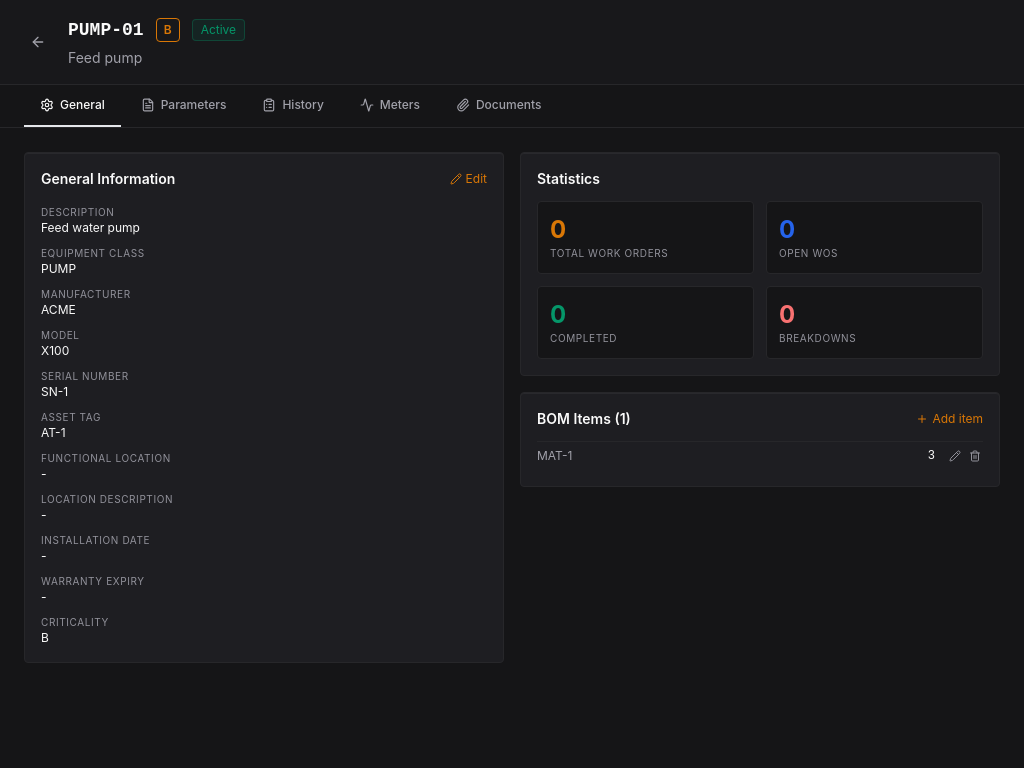
Scenario: EquipmentDetailPage BOM editing (SOW 3.1.2) › edits a BOM item quantity
Click the button named "edit bom mat-1" at (955, 456), box [947,448,963,464]
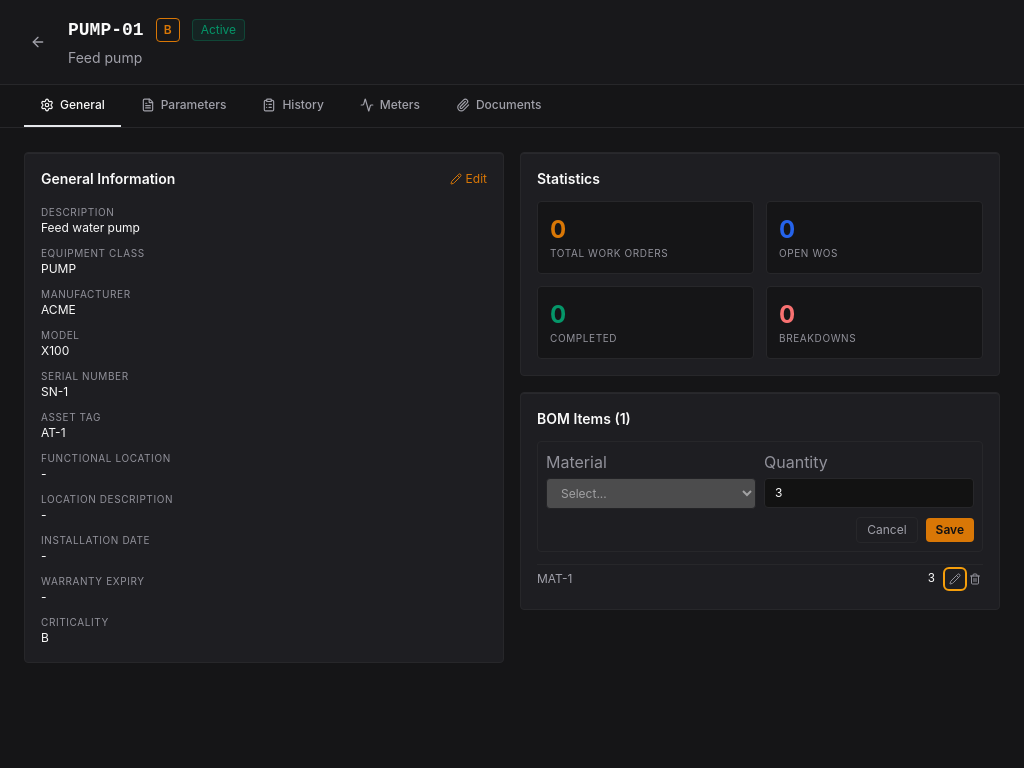
Result: the number field labelled "Quantity" holds "3"
Replace the text in the number field labelled "Quantity" with "7" at (869, 493), box [764,478,974,508]
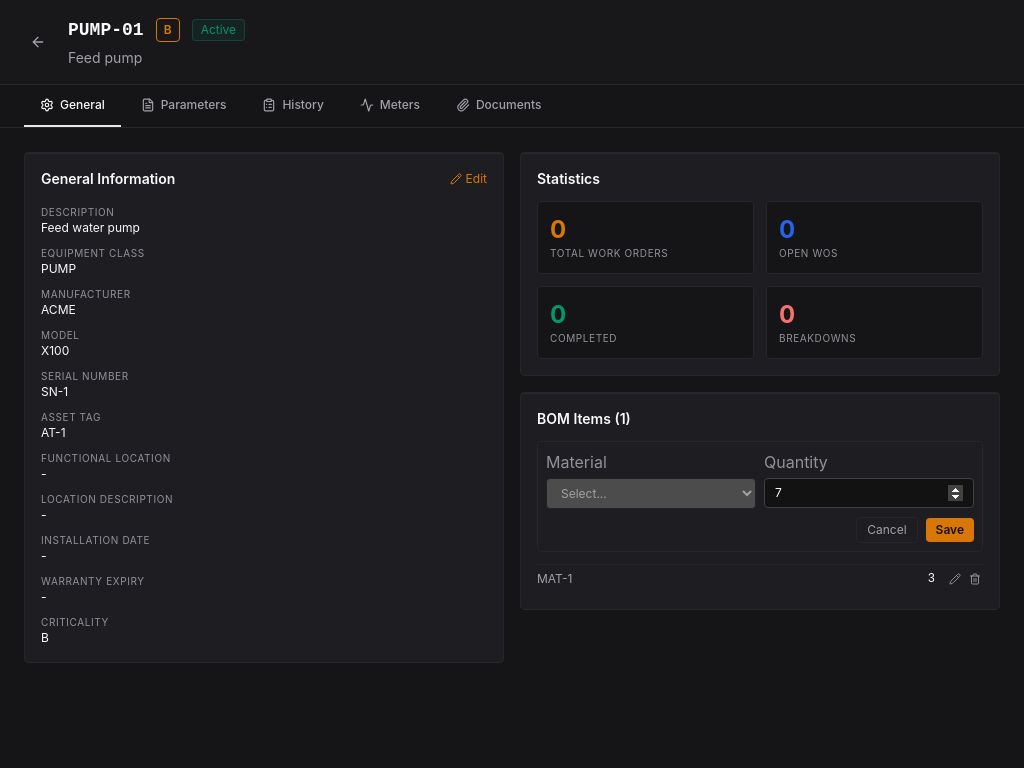
Click the button "Save" at (950, 530), box [926,518,974,542]
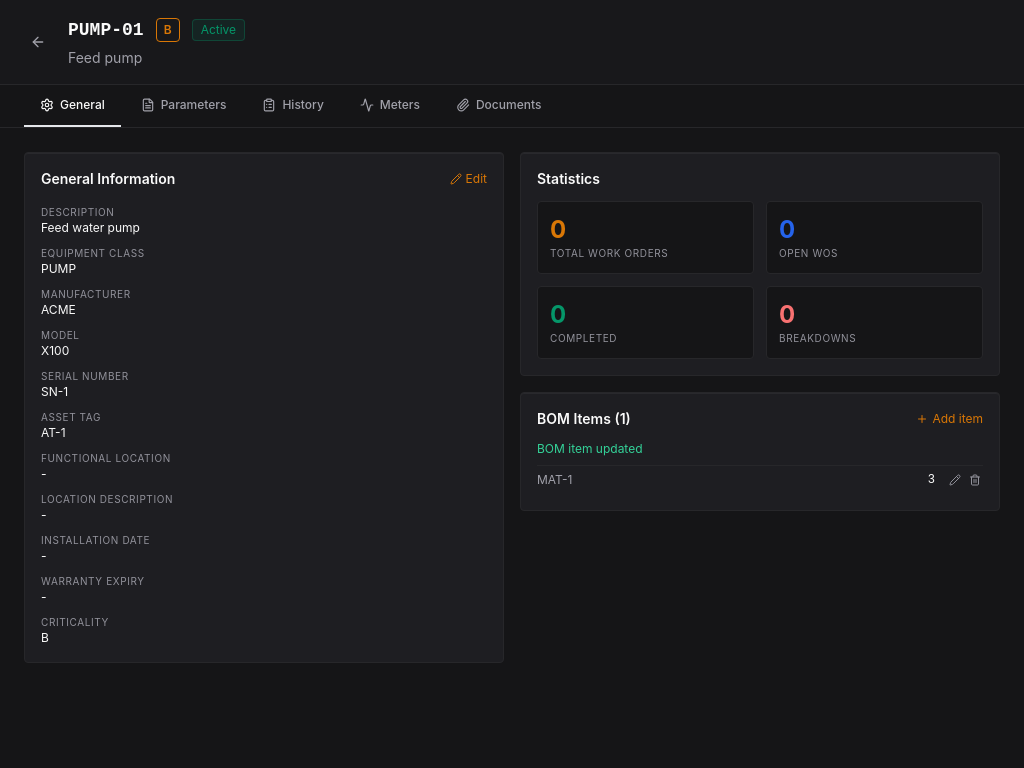
Result: the text "BOM item updated" is shown at [537,441,642,456]
